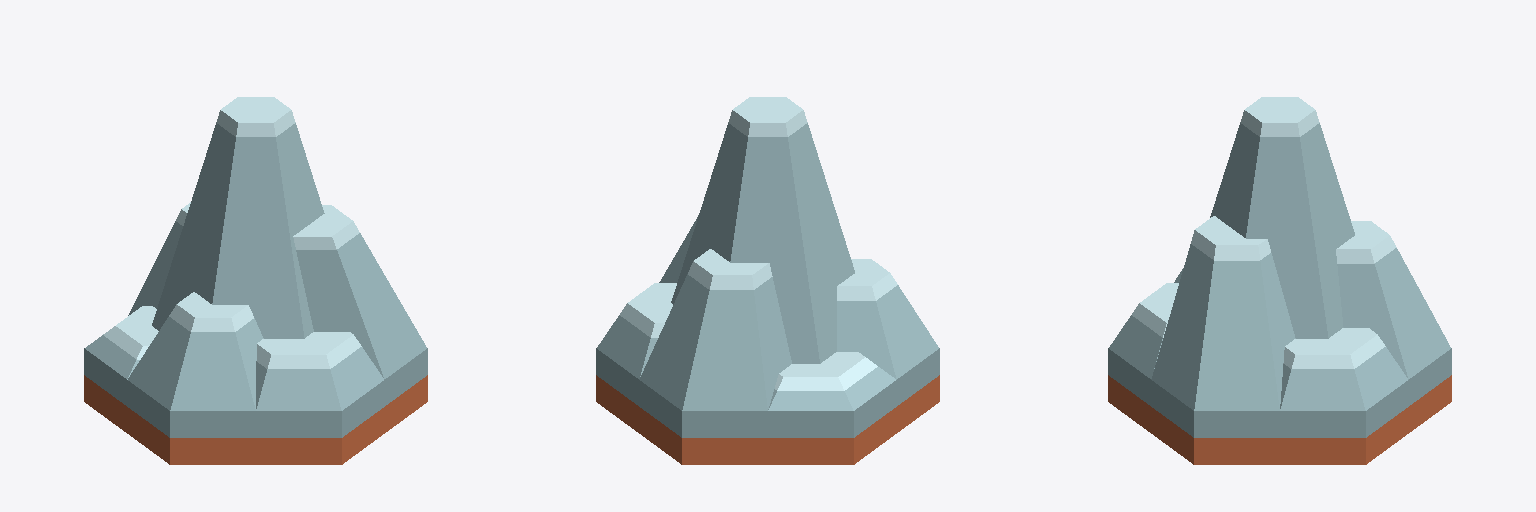
File: stone_mountain.obj
3 renders of one model, left to right at view 1: azimuth 30°, elevation 25°; view 2: azimuth 150°, elevation 25°; view 3: azimuth 270°, elevation 25°, orthographic.
Parts seen in each view (by area): view 1: rockLarge, stone_mountain; view 2: rockLarge, stone_mountain; view 3: rockLarge, stone_mountain.
Boxes of the visible parts, x1,y1,x2,y2 form: rockLarge: [85, 97, 426, 410]; stone_mountain: [84, 348, 427, 464]; rockLarge: [597, 97, 938, 410]; stone_mountain: [596, 348, 939, 464]; rockLarge: [1109, 97, 1450, 410]; stone_mountain: [1108, 348, 1451, 464].
Bounding box in the file's own units: 1 × 1.09 × 1.15.